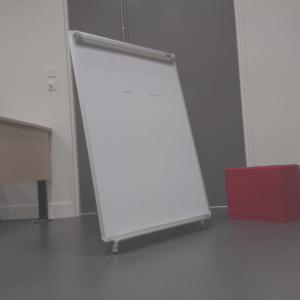big: (67, 29, 213, 243)
medium: (225, 164, 300, 222)
